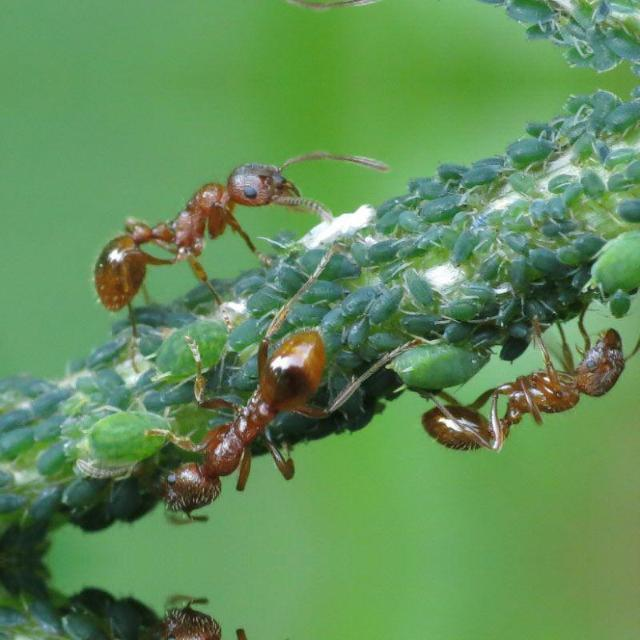Myrmica: (92, 118, 360, 318), (370, 296, 640, 482), (147, 301, 341, 514), (92, 0, 360, 42)
